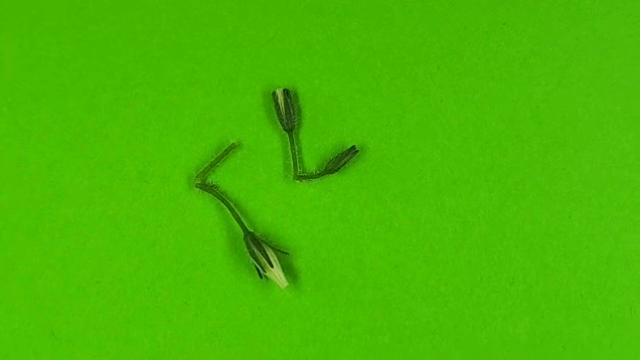Flower Bud: (245, 232, 290, 290), (270, 87, 299, 131), (323, 144, 360, 174)
